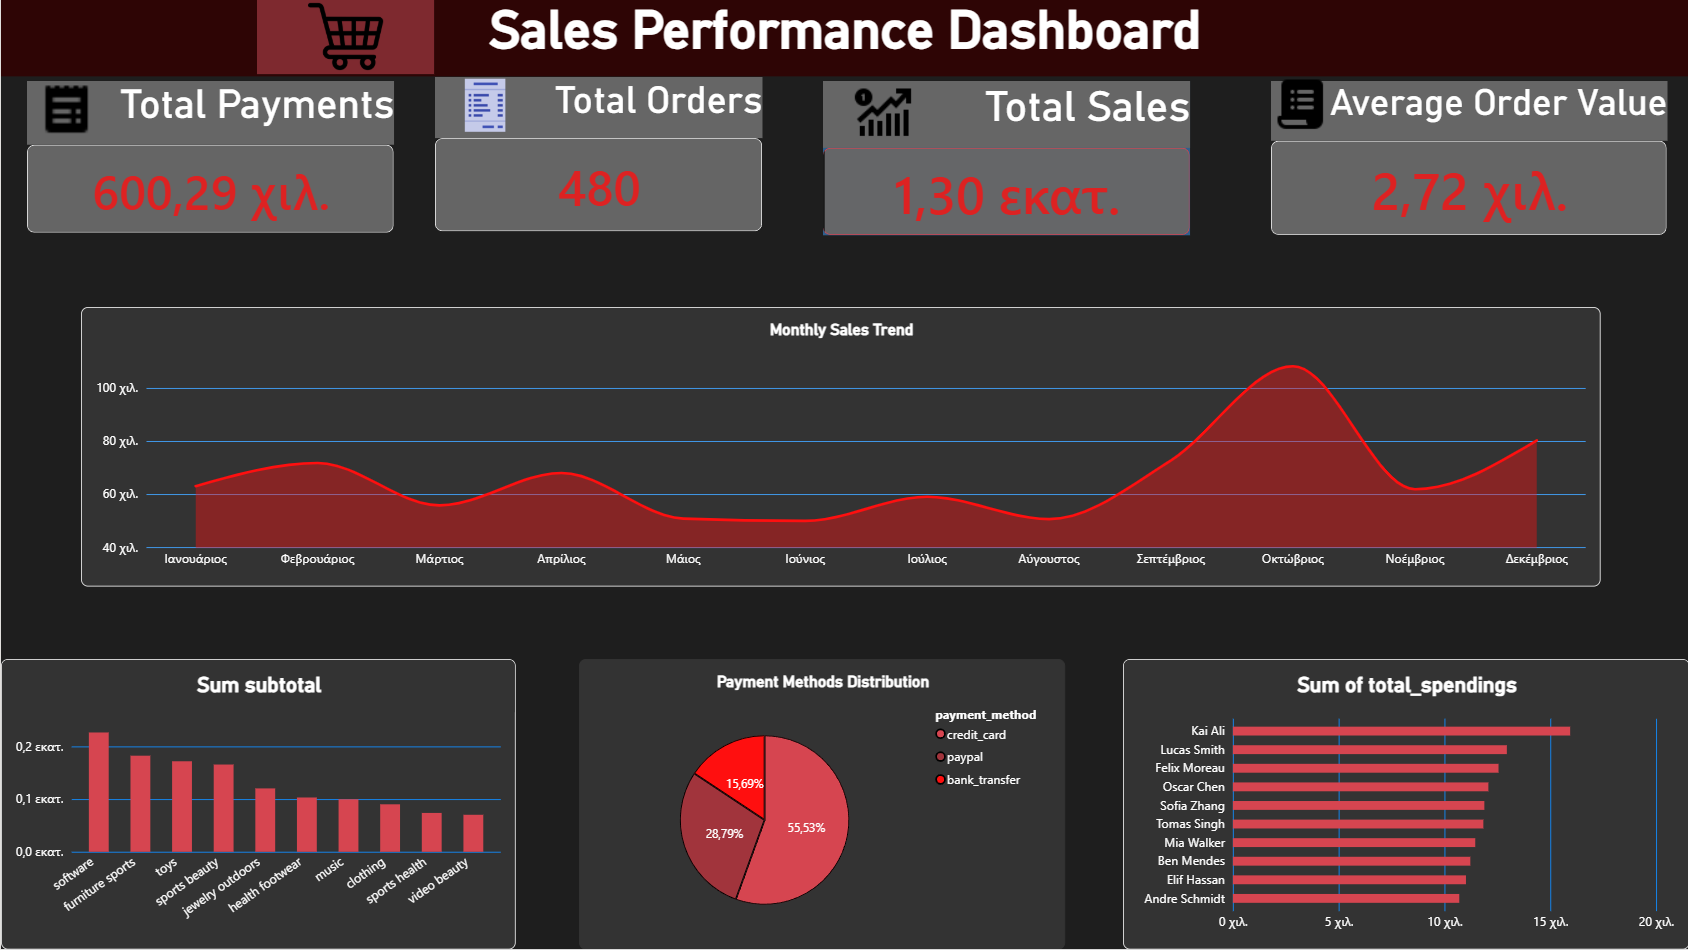

The page's visual inventory and layout, read from the dashboard file:
{"tool":"powerbi","page":{"name":"OnlineShopDashboard","canvas":[1920,1080],"ordinal":0},"visuals":[{"type":"cardVisual","title":"Total Sales","fields":{"Data":["order_items.Total Sales"]},"box":[935.1,92.6,417.7,175.6],"z":0},{"type":"cardVisual","title":"Total Orders","fields":{"Data":["orders.Total Orders"]},"box":[493.6,87.8,372.6,175.6],"z":1000},{"type":"cardVisual","title":"Average Order Value","fields":{"Data":["orders.Average Order Value"]},"box":[1445.3,92.6,450.9,175.6],"z":2000},{"type":"cardVisual","title":"Total Payments","fields":{"Data":["payments.Total Payments"]},"box":[28.5,92.6,417.7,173.3],"z":3000},{"type":"clusteredColumnChart","title":"Sum subtotal","fields":{"Category":["categories.name"],"Y":["Sum(order_items.subtotal)"]},"box":[0,749.7,585.6,330.3],"z":4000},{"type":"barChart","title":"Sum of  total_spendings","fields":{"Category":["CustomerSummary.full_name"],"Y":["Sum(CustomerSummary.total_spendings)"]},"box":[1276.5,749.7,644.4,330.3],"z":5000},{"type":"pieChart","title":"Payment Methods Distribution","fields":{"Category":["payments.payment_method"],"Y":["Sum(payments.amount)"]},"box":[658.5,749.7,553.2,330.3],"z":6000},{"type":"lineChart","title":"Monthly Sales Trend","fields":{"Category":["orders.order_date.Variation.Ιεραρχία ημερομηνιών.Μήνας"],"Y":["Sum(orders.total_amount)"]},"box":[91.2,350.5,1728.4,318.1],"z":7000},{"type":"shape","title":"Sales Performance Dashboard","box":[0,0,1920,87.8],"z":8000},{"type":"image","box":[291.9,0,201.7,85.4],"z":8001},{"type":"image","box":[28.5,92.6,90.2,64.1],"z":8002},{"type":"image","box":[493.6,85.4,113.9,68.8],"z":8003},{"type":"image","box":[935.1,92.6,135.3,71.2],"z":8004},{"type":"image","box":[1445.3,83.1,71.2,71.2],"z":8005}]}

Visuals, with their boxes in screenshot pixels (x1, y1, x2, y2), scaled from the page's 1920x1080 canvas onto the 1688x950 screenshot:
"Total Sales" cardVisual: region(822, 81, 1189, 236)
"Total Orders" cardVisual: region(434, 77, 762, 232)
"Average Order Value" cardVisual: region(1271, 81, 1667, 236)
"Total Payments" cardVisual: region(25, 81, 392, 234)
"Sum subtotal" clusteredColumnChart: region(0, 659, 515, 949)
"Sum of  total_spendings" barChart: region(1122, 659, 1687, 949)
"Payment Methods Distribution" pieChart: region(579, 659, 1065, 949)
"Monthly Sales Trend" lineChart: region(80, 308, 1600, 588)
"Sales Performance Dashboard" shape: region(0, 0, 1687, 77)
image: region(257, 0, 434, 75)
image: region(25, 81, 104, 138)
image: region(434, 75, 534, 136)
image: region(822, 81, 941, 144)
image: region(1271, 73, 1333, 136)
